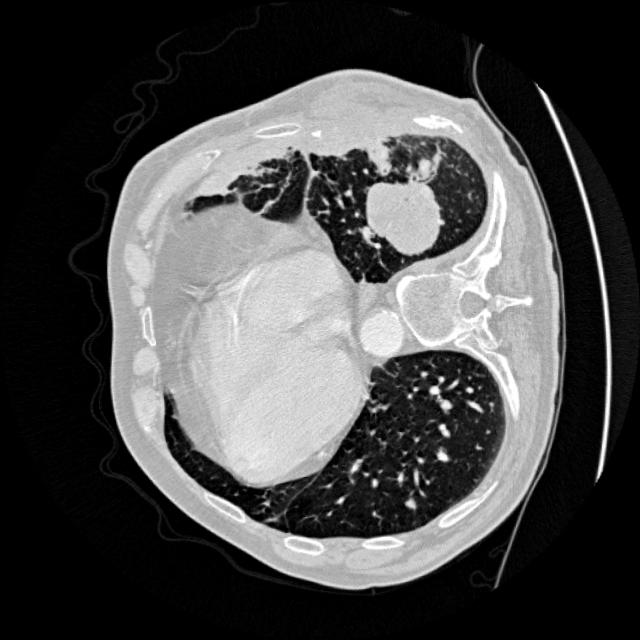nodule: (399, 490, 420, 511)
